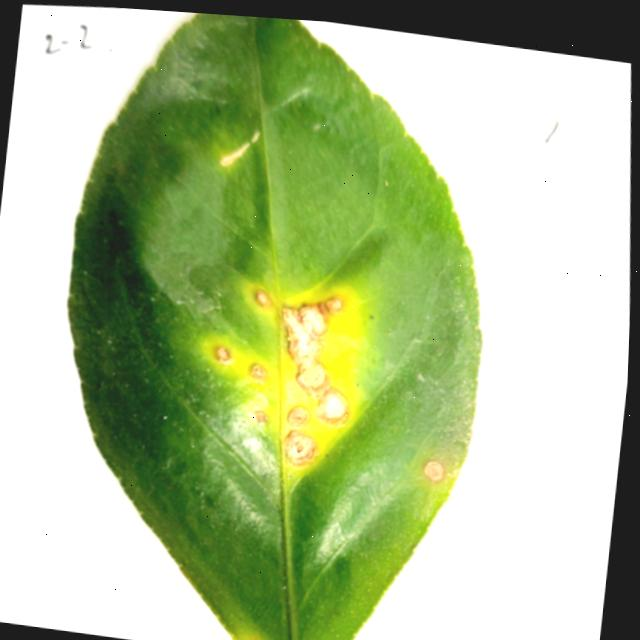antracnose: (67, 13, 480, 640), (281, 297, 346, 425), (283, 431, 315, 466), (286, 406, 309, 427), (422, 460, 443, 480), (252, 289, 270, 307), (250, 364, 265, 381), (214, 347, 229, 362), (253, 411, 265, 422)
